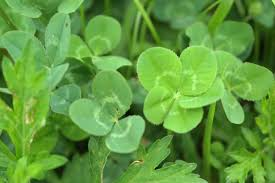4-clover: (136, 45, 219, 132)
